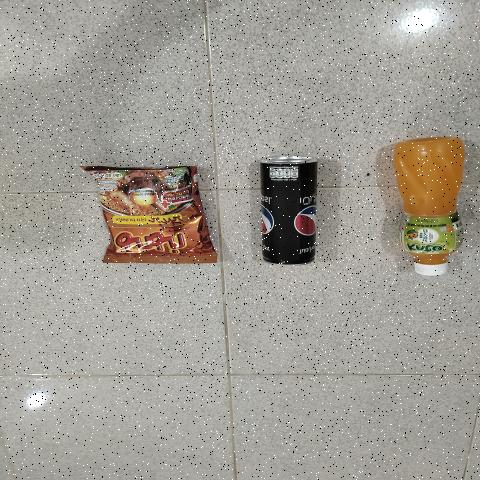mama: (105, 164, 200, 262)
pepsi_black: (262, 159, 316, 262)
